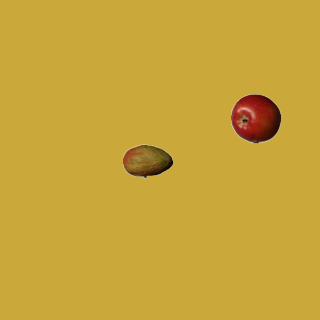Apple Braeburn: (230, 93, 280, 143)
Papaya: (122, 136, 172, 186)
